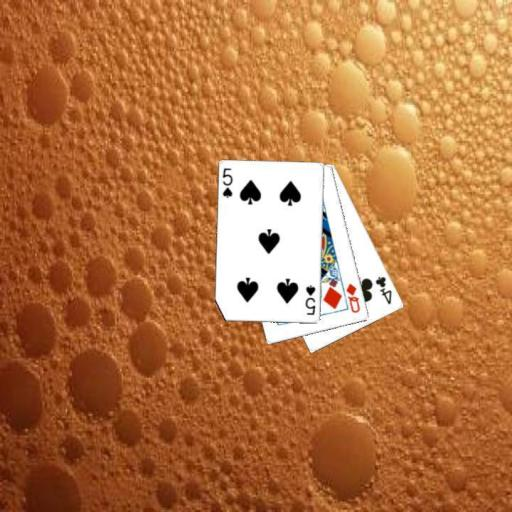card-corner: (373, 273, 393, 306), (343, 280, 362, 314), (302, 282, 317, 316), (220, 165, 234, 200)
